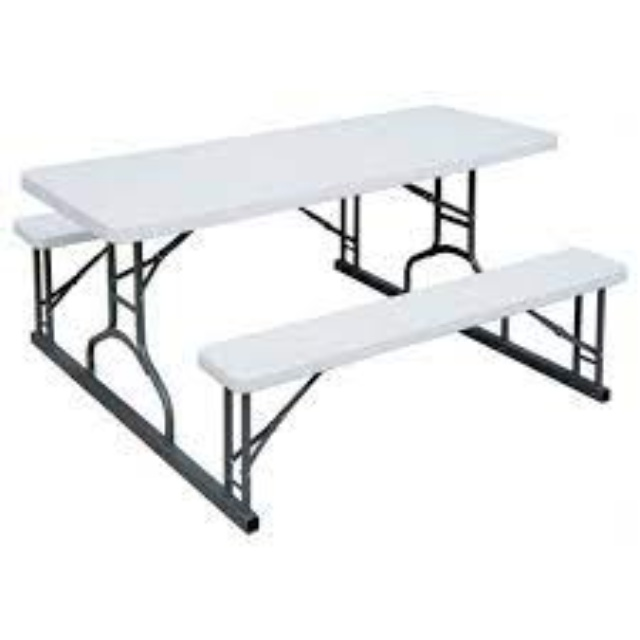obstacle: (9, 100, 623, 555)
